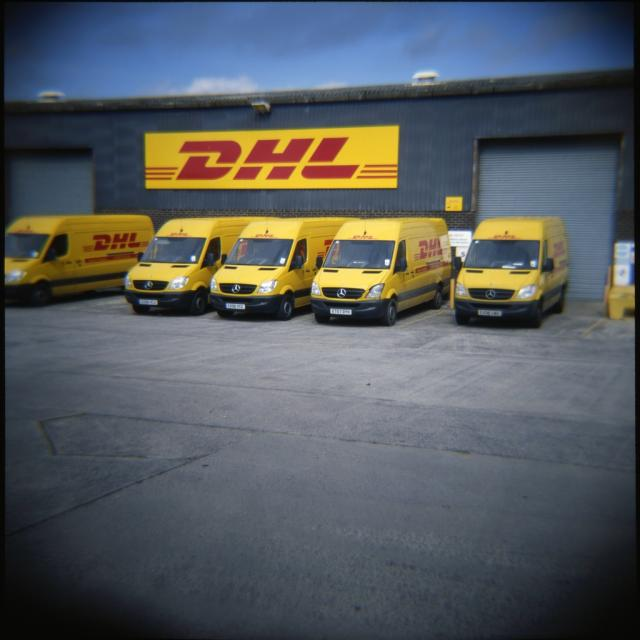dhl: (135, 130, 402, 195), (78, 231, 150, 259), (407, 235, 448, 265), (553, 238, 568, 262), (166, 230, 192, 238), (491, 234, 519, 241), (349, 235, 379, 241), (254, 234, 276, 241)
